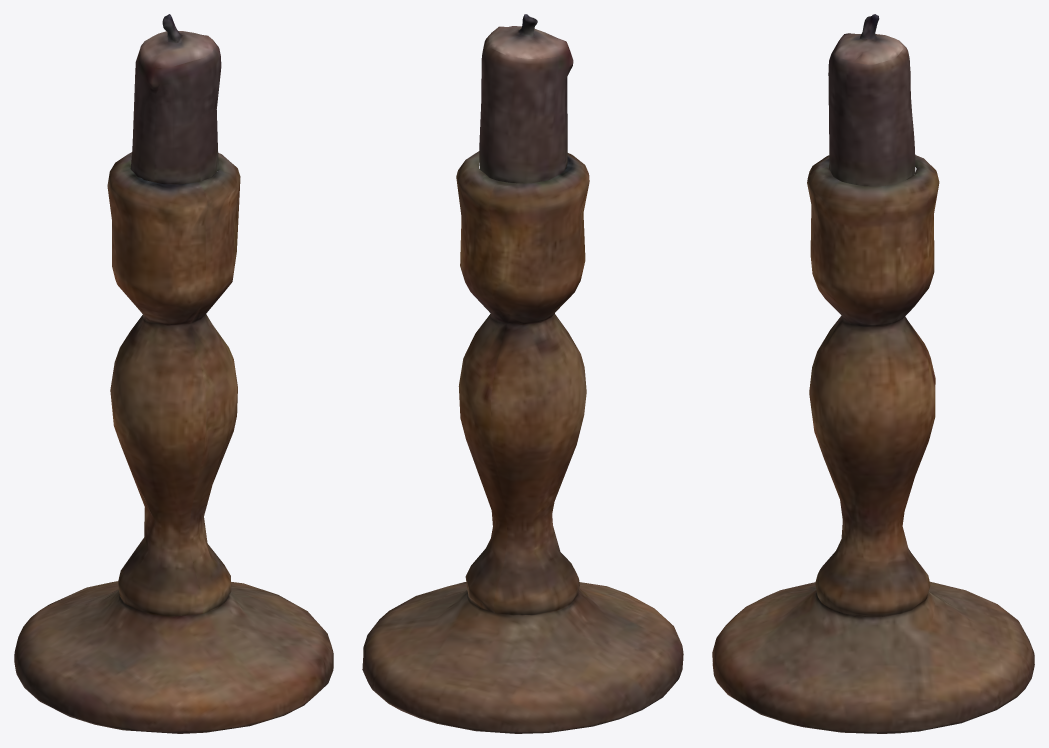
File: candle.glb
3 views of the same model, side by side, from view 1: azimuth 30°, elevation 25°; view 2: azimuth 150°, elevation 25°; view 3: azimuth 270°, elevation 25° (orthographic).
Visible parts, largest first — view 1: wooden_candlestick; view 2: wooden_candlestick; view 3: wooden_candlestick.
Boxes of the visible parts, x1,y1,x2,y2 form: wooden_candlestick: (14,14,333,733); wooden_candlestick: (362,14,683,733); wooden_candlestick: (712,14,1034,733).
Bounding box in the file's own units: 0.0972 × 0.2196 × 0.0985.
1 material, 1 textured.
